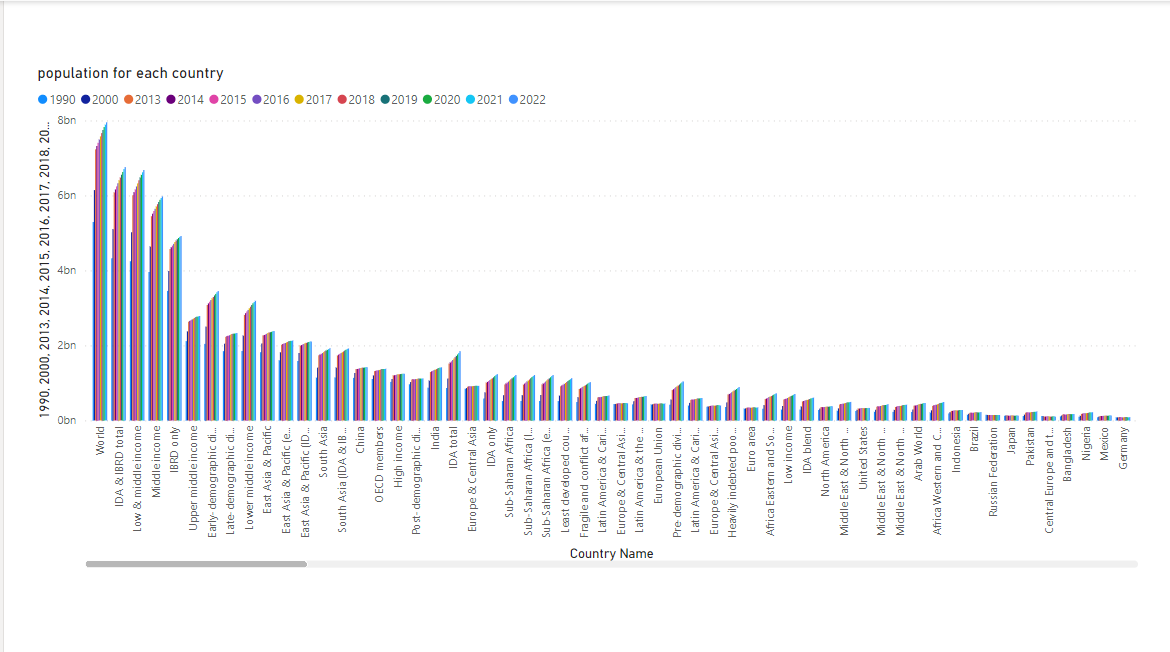

Layout of this report page (visuals, bound fields, positions):
{"tool":"powerbi","page":{"name":"Page 1","canvas":[1280,720],"ordinal":0},"visuals":[{"type":"clusteredColumnChart","title":"population for each country","fields":{"Category":["cleaned_data.Country Name"],"Y":["Sum(cleaned_data.1990)","Sum(cleaned_data.2000)","Sum(cleaned_data.2013)","Sum(cleaned_data.2014)","Sum(cleaned_data.2015)","Sum(cleaned_data.2016)","Sum(cleaned_data.2017)","Sum(cleaned_data.2018)","Sum(cleaned_data.2019)","Sum(cleaned_data.2020)","Sum(cleaned_data.2021)","Sum(cleaned_data.2022)"]},"box":[31.4,68.6,1218.6,558.6],"z":0}]}

Visuals, with their boxes in screenshot pixels (x1, y1, x2, y2), scaled from the page's 1280x720 canvas onto the 1170x652 screenshot:
"population for each country" clusteredColumnChart: 29:62:1143:568
